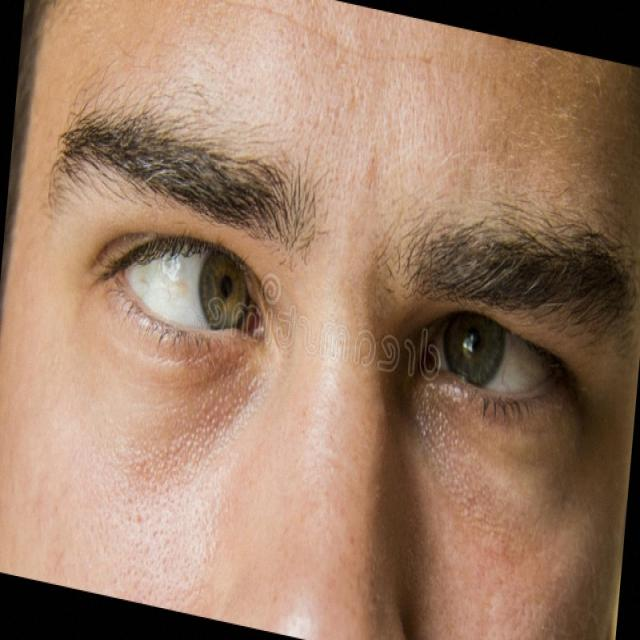Healthy-Eye: (404, 277, 580, 459)
Squint: (95, 186, 271, 400)
